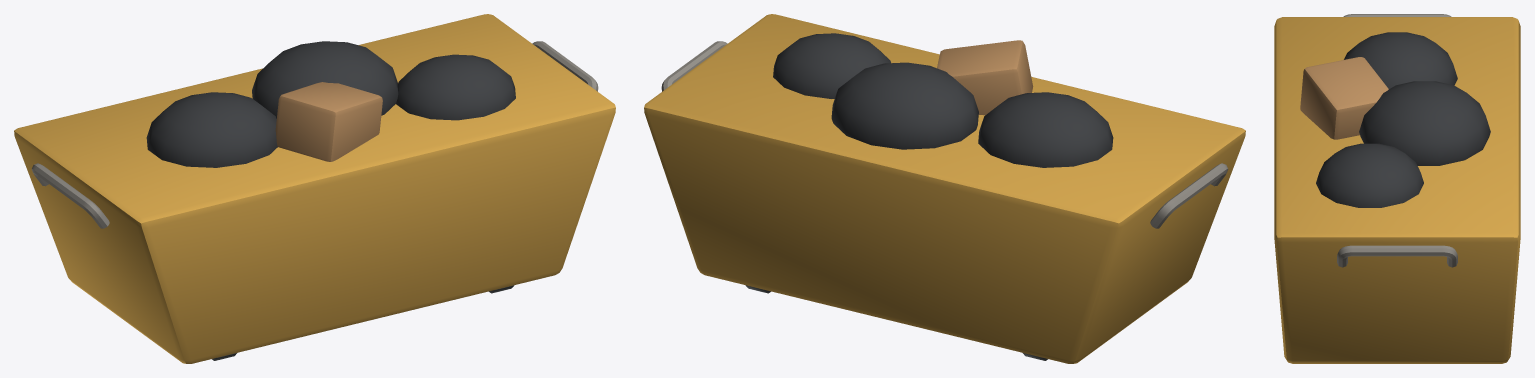
Rendered from skip.glb.
The picture shows the model from 3 angles, left to right: view 1: azimuth 30°, elevation 25°; view 2: azimuth 150°, elevation 25°; view 3: azimuth 270°, elevation 25°; orthographic projection. The views are drawn at different scales.
Parts seen in each view (by area): view 1: skip.001, bag, crate, steel_dark; view 2: skip.001, bag, crate, steel_dark; view 3: skip.001, bag, crate, steel_dark.
Part boxes in pixels (left/top/right/bottom): skip.001: left=14, top=14, right=615, bottom=363; bag: left=146, top=41, right=515, bottom=167; crate: left=275, top=82, right=382, bottom=161; steel_dark: left=31, top=41, right=598, bottom=228; skip.001: left=644, top=14, right=1245, bottom=363; bag: left=773, top=33, right=1113, bottom=167; crate: left=937, top=40, right=1033, bottom=115; steel_dark: left=661, top=41, right=1228, bottom=228; skip.001: left=1274, top=17, right=1520, bottom=363; bag: left=1316, top=32, right=1490, bottom=207; crate: left=1300, top=57, right=1388, bottom=139; steel_dark: left=1337, top=14, right=1457, bottom=267.
Bounding box in the file's own units: 2.03 × 0.848 × 0.8961.
